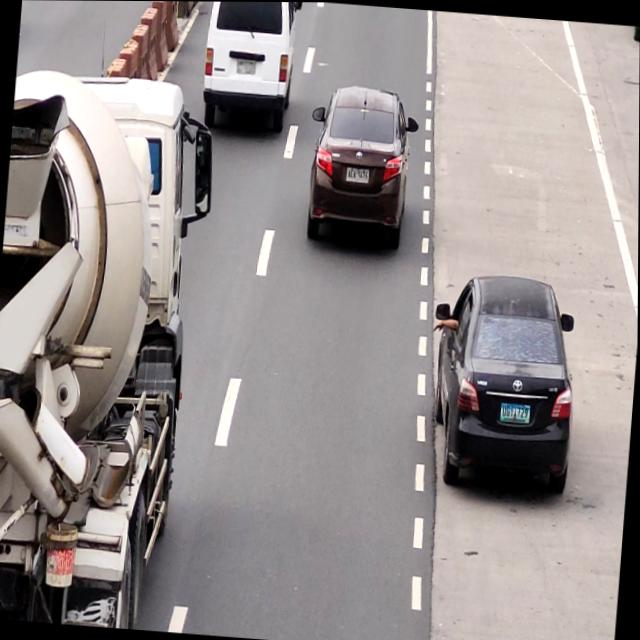Car: (422, 269, 584, 506), (303, 87, 416, 250)
License-Plate: (501, 400, 530, 424), (344, 166, 371, 184)
Truck: (0, 68, 198, 630)
